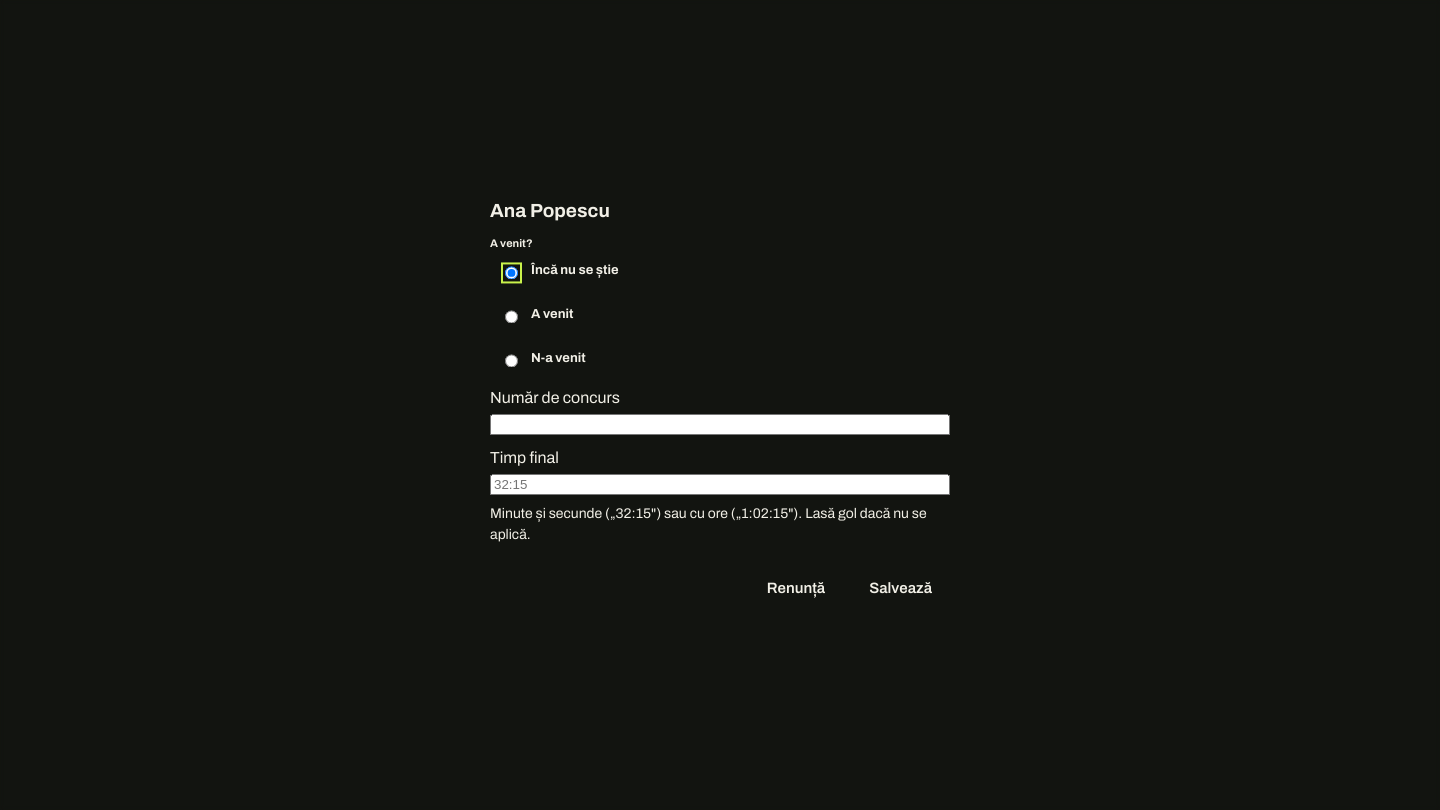
Test: DialogPrezenta — numărul și timpul › eroarea dispare după corectare
In the field labelled "Timp final": (720,485) [490,474,950,495], type "aiurea"
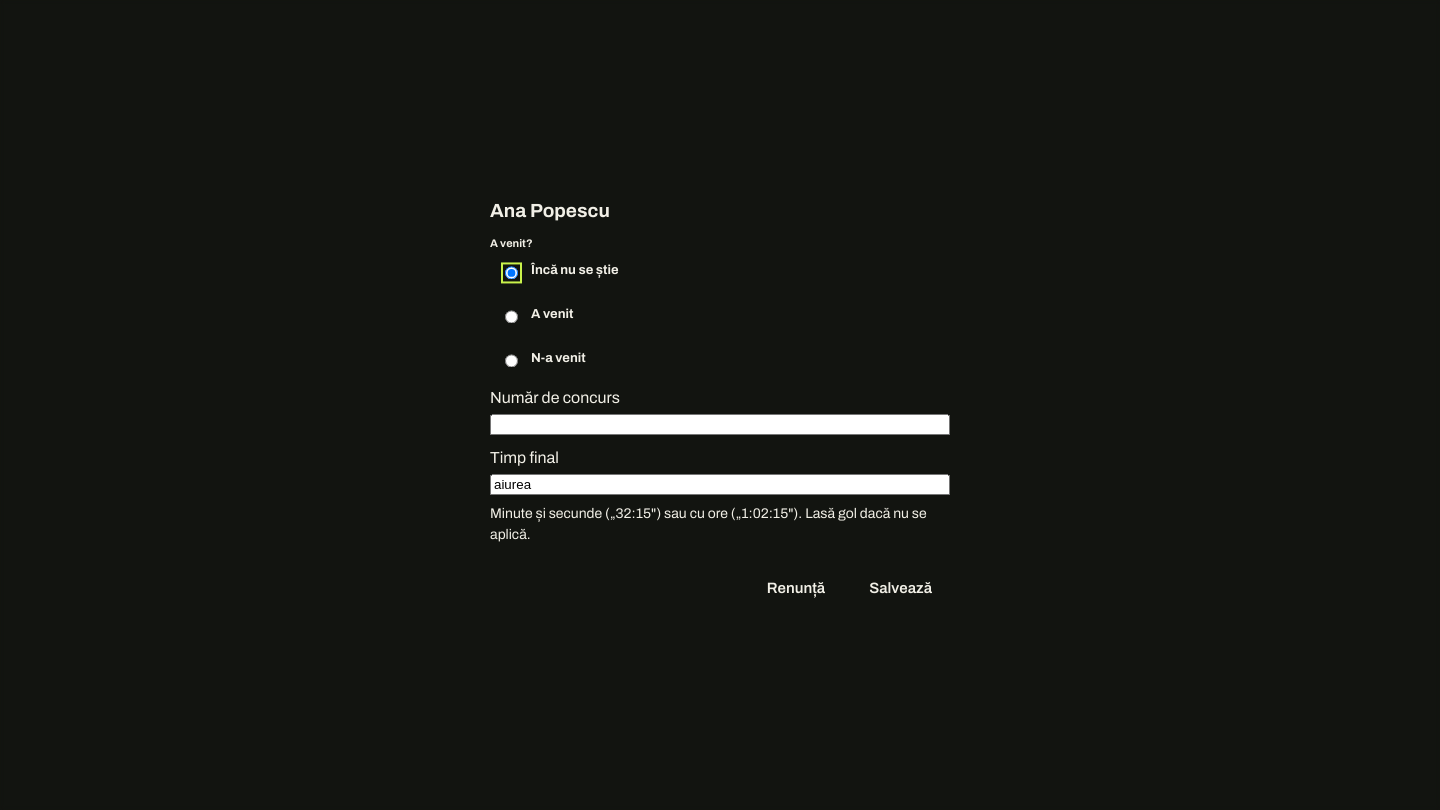
Click the button "Salvează": (901,589) [851,567,950,611]
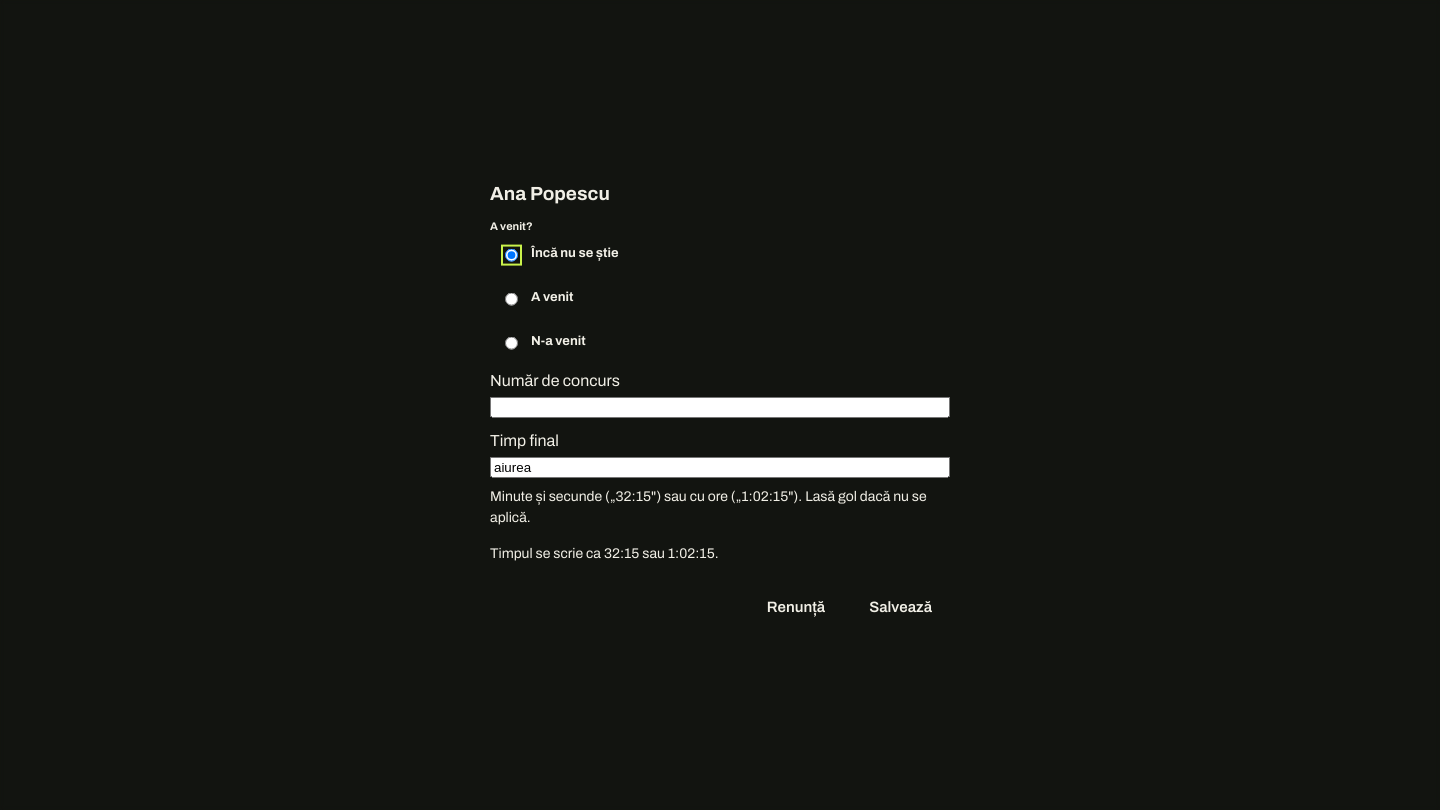
Check: the message "Timpul se scrie ca 32:15 sau 1:02:15." is shown, box [490,546,718,561]
Replace the text in the field labelled "Timp final" with "32:15": (720,467) [490,456,950,477]
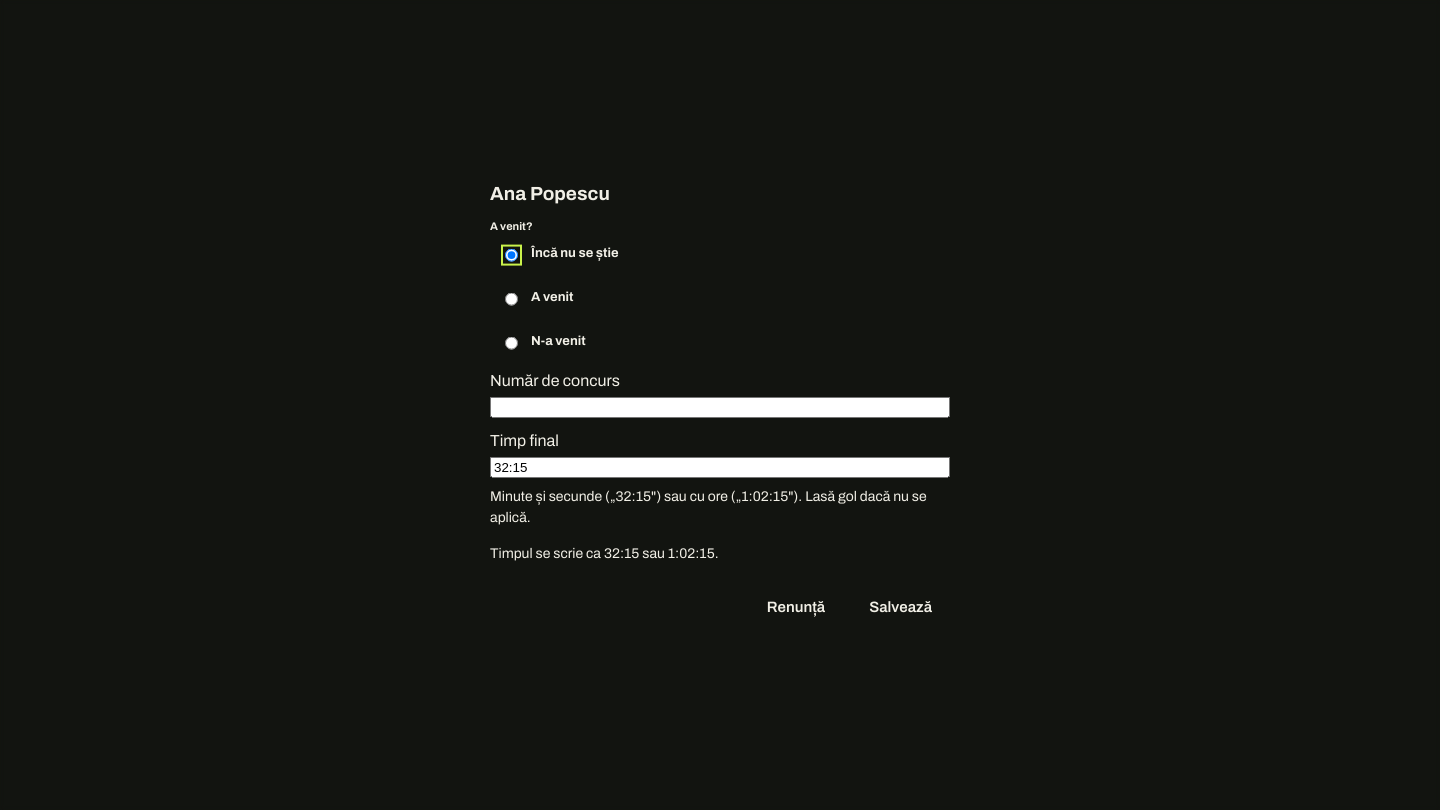
Click the button "Salvează": (901,606) [851,584,950,628]
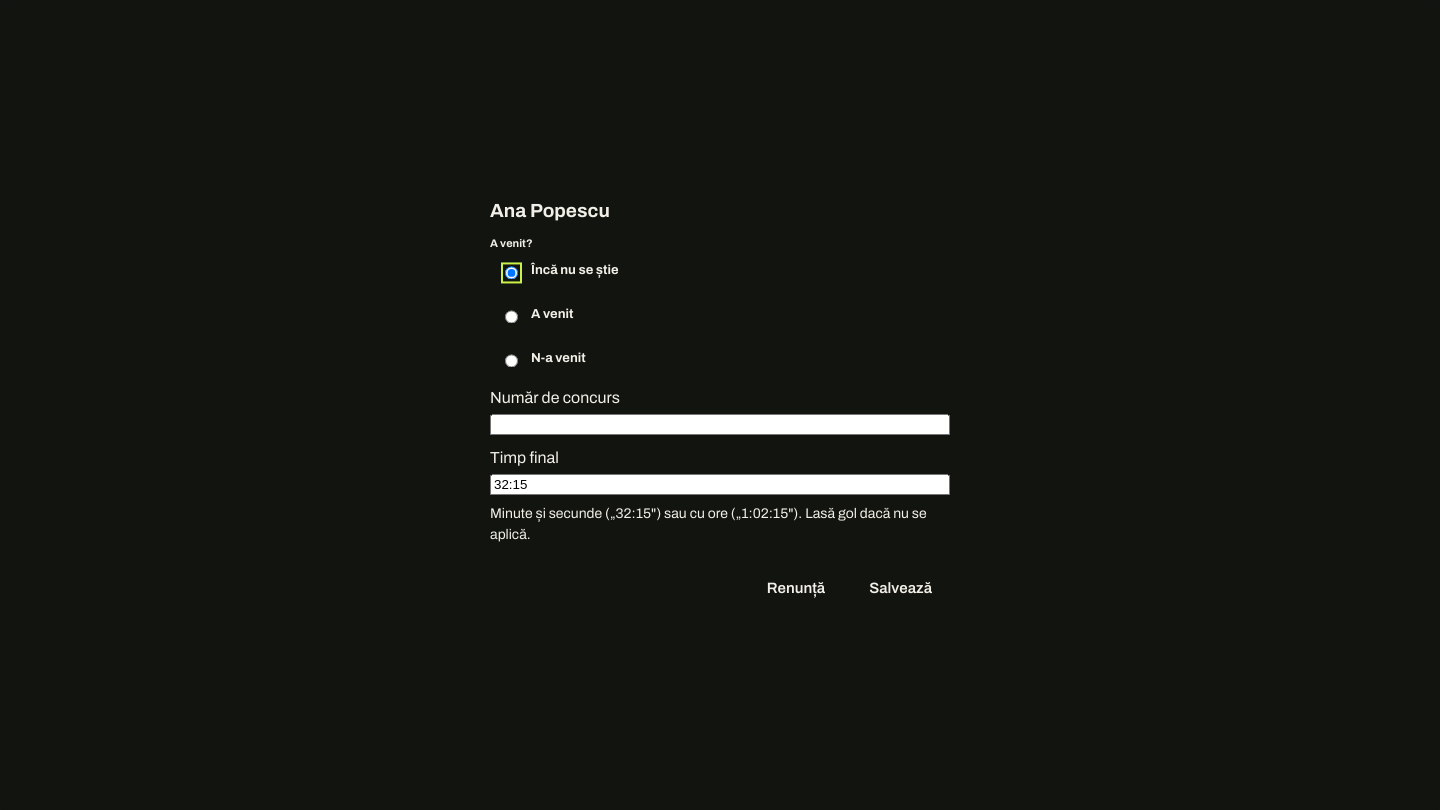
Check: the message "Timpul se scrie ca 32:15 sau 1:02:15." is gone
